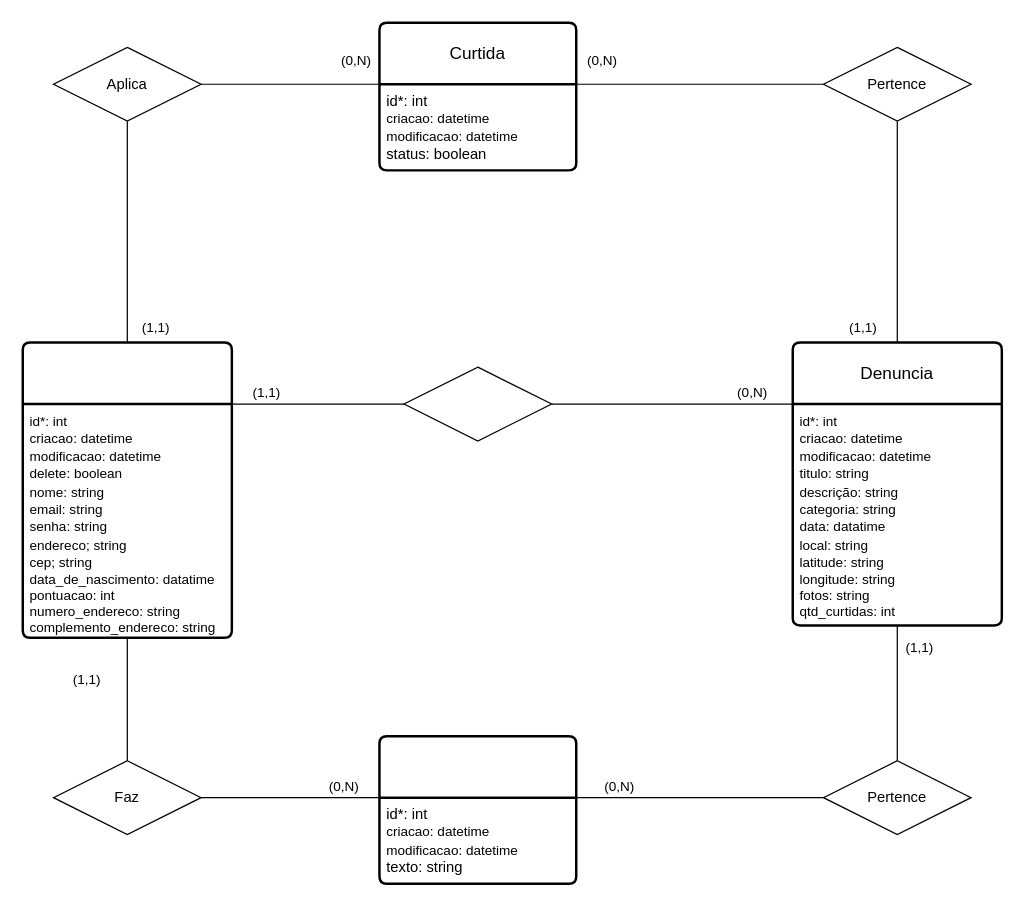
Some shapes in this 1023 by 905 pixel diagram are drawn without their labels. The shapes that lost their labels are listed below. From the top down, each one's box as (x1, y1, x2, y2) in pixels, then its label:
(403, 366, 552, 441): Realiza
(21, 341, 232, 638): Usuario
(378, 734, 577, 884): Comentario
